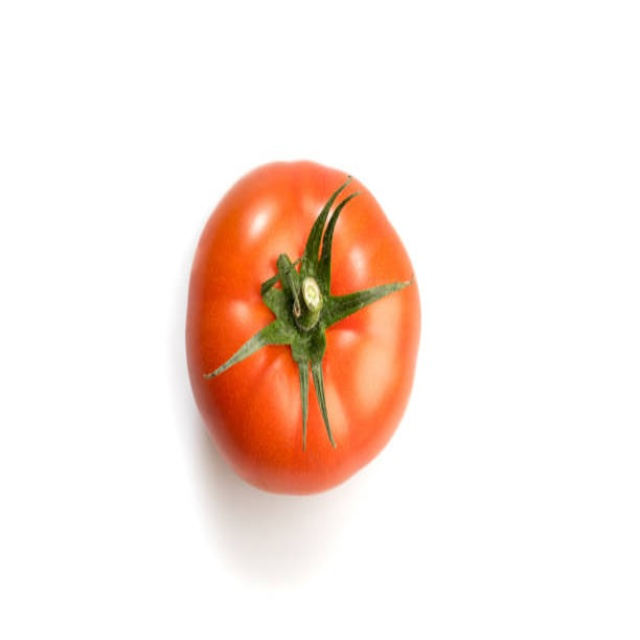tomato: (181, 151, 421, 498)
